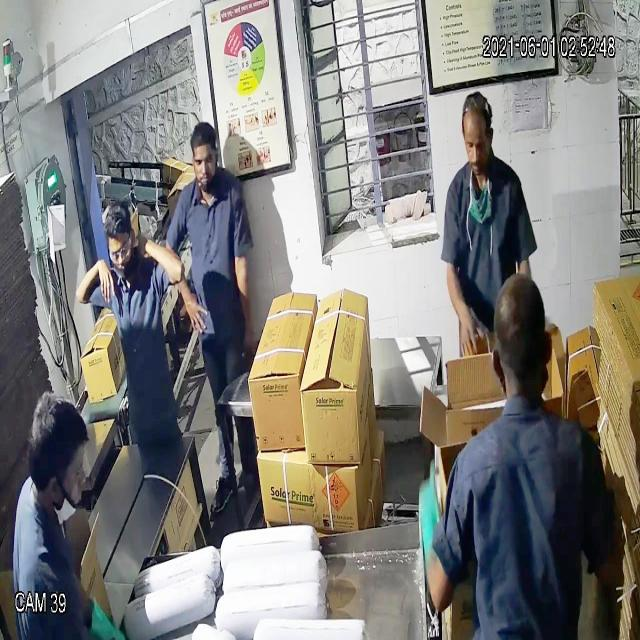glasses: (104, 232, 136, 273)
no-glass: (458, 126, 496, 158)
